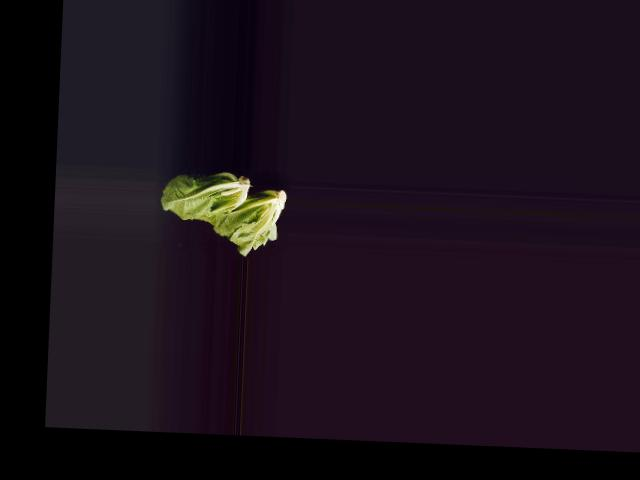lettuce: (197, 177, 287, 256)
